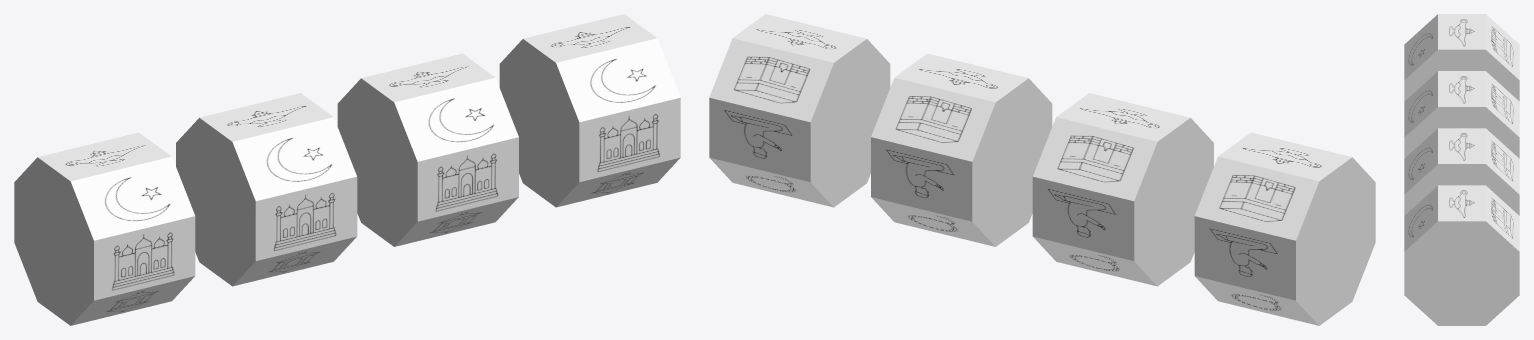
Rendered from codigo.fbx.
3 renders of one model, left to right at view 1: azimuth 30°, elevation 25°; view 2: azimuth 150°, elevation 25°; view 3: azimuth 270°, elevation 25°, orthographic. The views are drawn at different scales.
Parts seen in each view (by area): view 1: Circle.001, Circle.002, Circle.004, Circle.003; view 2: Circle.001, Circle.002, Circle.004, Circle.003; view 3: Circle.004, Circle.002, Circle.003, Circle.001.
Boxes of the visible parts, x1,y1,x2,y2 form: Circle.001: (14,132,195,325); Circle.002: (176,93,357,286); Circle.004: (499,14,680,207); Circle.003: (337,53,518,246); Circle.001: (1194,132,1375,325); Circle.002: (1032,93,1213,286); Circle.004: (709,14,890,207); Circle.003: (871,53,1052,246); Circle.004: (1404,185,1519,325); Circle.002: (1404,71,1519,158); Circle.003: (1404,128,1519,215); Circle.001: (1404,14,1519,101).
Size of the model in its own units: 52.62 by 12.39 by 12.39.
Materials: 1 (1 with a texture image).
